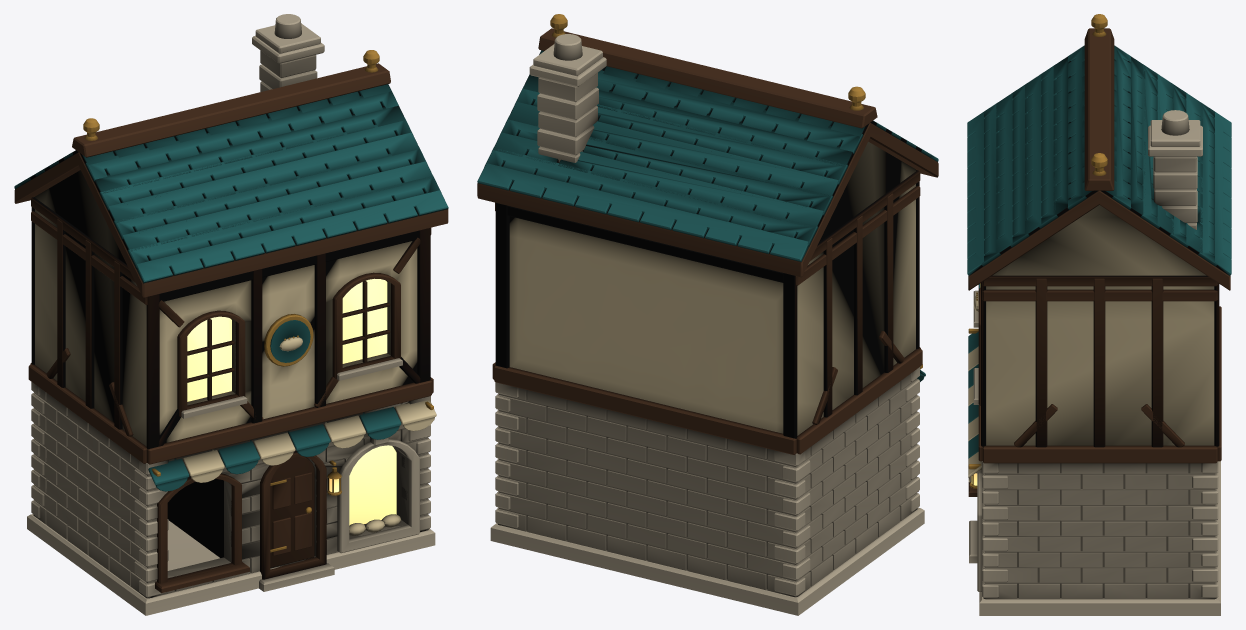
Rendered from bakery_building.glb.
3 views of the same model, side by side, from view 1: azimuth 30°, elevation 25°; view 2: azimuth 150°, elevation 25°; view 3: azimuth 270°, elevation 25° (orthographic). The views are drawn at different scales.
Parts seen in each view (by area): view 1: Bakery_Shell, Bakery_Window, Bakery_Door, Bakery_Oven, Bakery_Chimney; view 2: Bakery_Shell, Bakery_Chimney; view 3: Bakery_Shell, Bakery_Chimney, Bakery_Oven, Bakery_Window.
Boxes of the visible parts, bbox=[...] form: Bakery_Shell: bbox=[14, 50, 448, 615]; Bakery_Window: bbox=[155, 272, 400, 593]; Bakery_Door: bbox=[260, 450, 326, 579]; Bakery_Oven: bbox=[337, 437, 419, 553]; Bakery_Chimney: bbox=[252, 14, 324, 91]; Bakery_Shell: bbox=[477, 14, 938, 615]; Bakery_Chimney: bbox=[529, 34, 606, 162]; Bakery_Shell: bbox=[967, 14, 1231, 615]; Bakery_Chimney: bbox=[1148, 110, 1202, 229]; Bakery_Oven: bbox=[976, 469, 981, 591]; Bakery_Window: bbox=[968, 284, 980, 496].
Bounding box in the file's own units: 0.13 × 0.19 × 0.0956.
